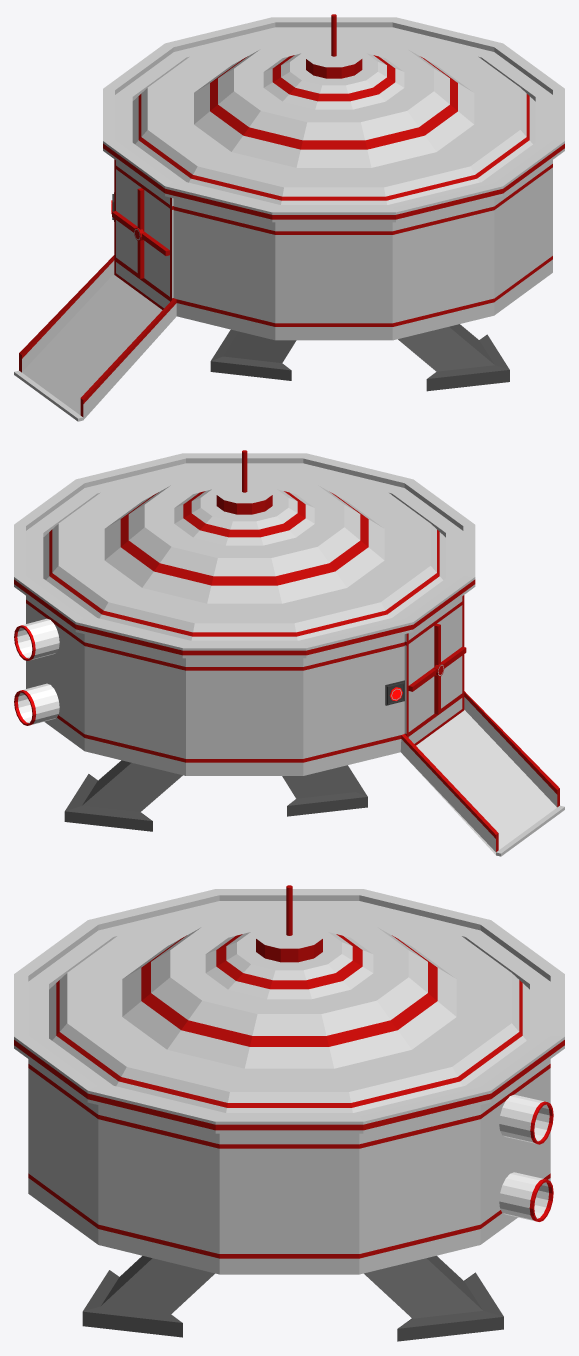
File: Escape Pod.fbx
3 views of the same model, one above another, from view 1: azimuth 30°, elevation 25°; view 2: azimuth 150°, elevation 25°; view 3: azimuth 270°, elevation 25° (orthographic). The views are drawn at different scales.
Parts seen in each view (by area): view 1: Escape Pod.001, Door.001; view 2: Escape Pod.001, Door.001, O2 Generator; view 3: Escape Pod.001, O2 Generator.
Part boxes in pixels (x1,y1,x2,y2): Escape Pod.001: (14, 14, 564, 421); Door.001: (112, 159, 173, 309); Escape Pod.001: (14, 450, 564, 856); Door.001: (404, 595, 466, 745); O2 Generator: (14, 618, 59, 725); Escape Pod.001: (14, 885, 564, 1341); O2 Generator: (499, 1094, 553, 1221).
Size of the model in its own units: 572 by 366 by 469.
